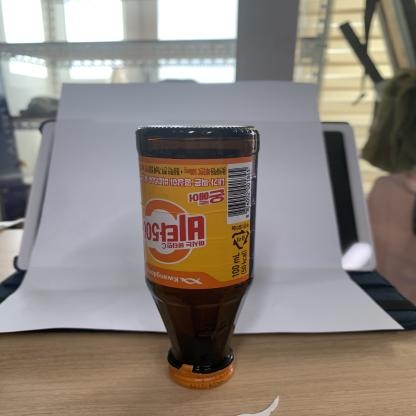Can: (135, 125, 261, 389)
